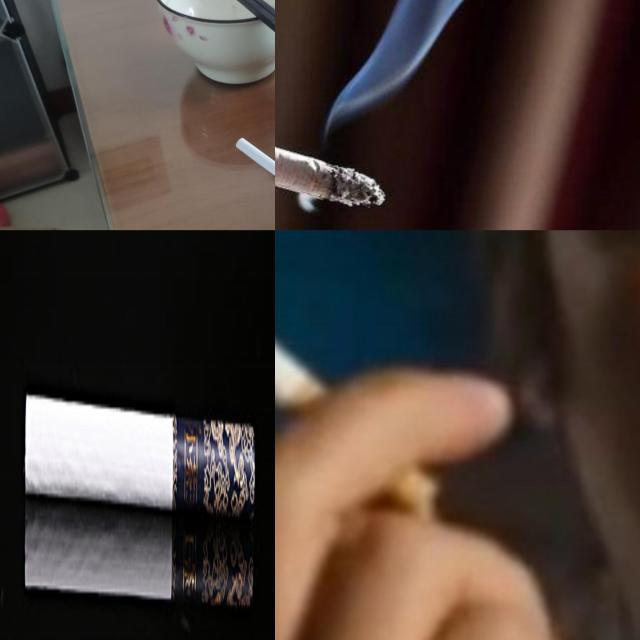cigarette: (275, 230, 437, 515), (24, 392, 256, 514), (24, 502, 254, 610), (274, 98, 388, 209), (236, 137, 275, 216)
